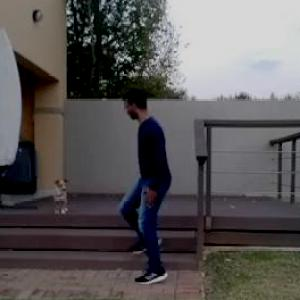follow: (121, 89, 174, 255)
